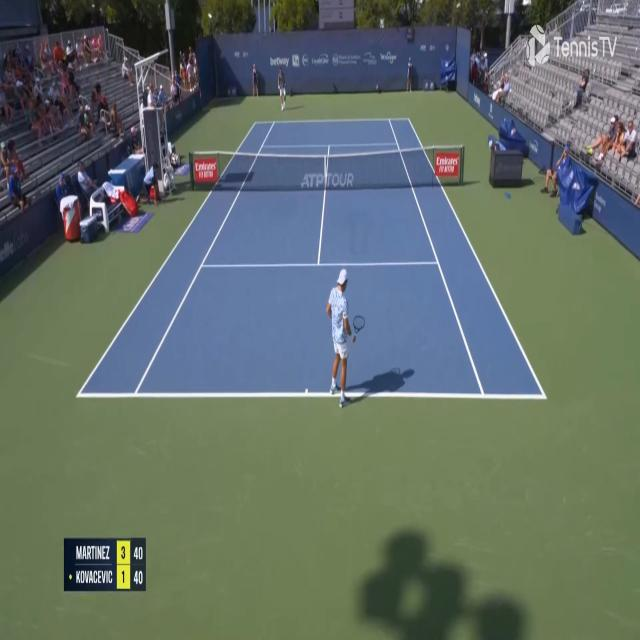tennis-player: (326, 266, 363, 410), (276, 65, 288, 112)
